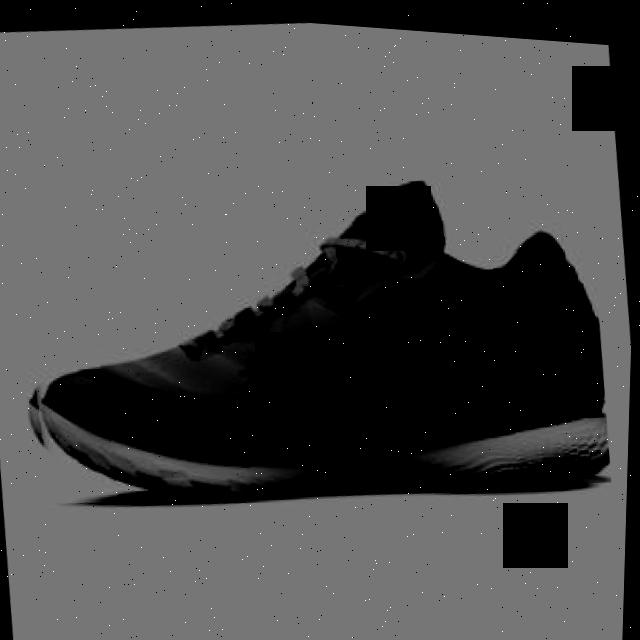shoe: (3, 132, 621, 537)
